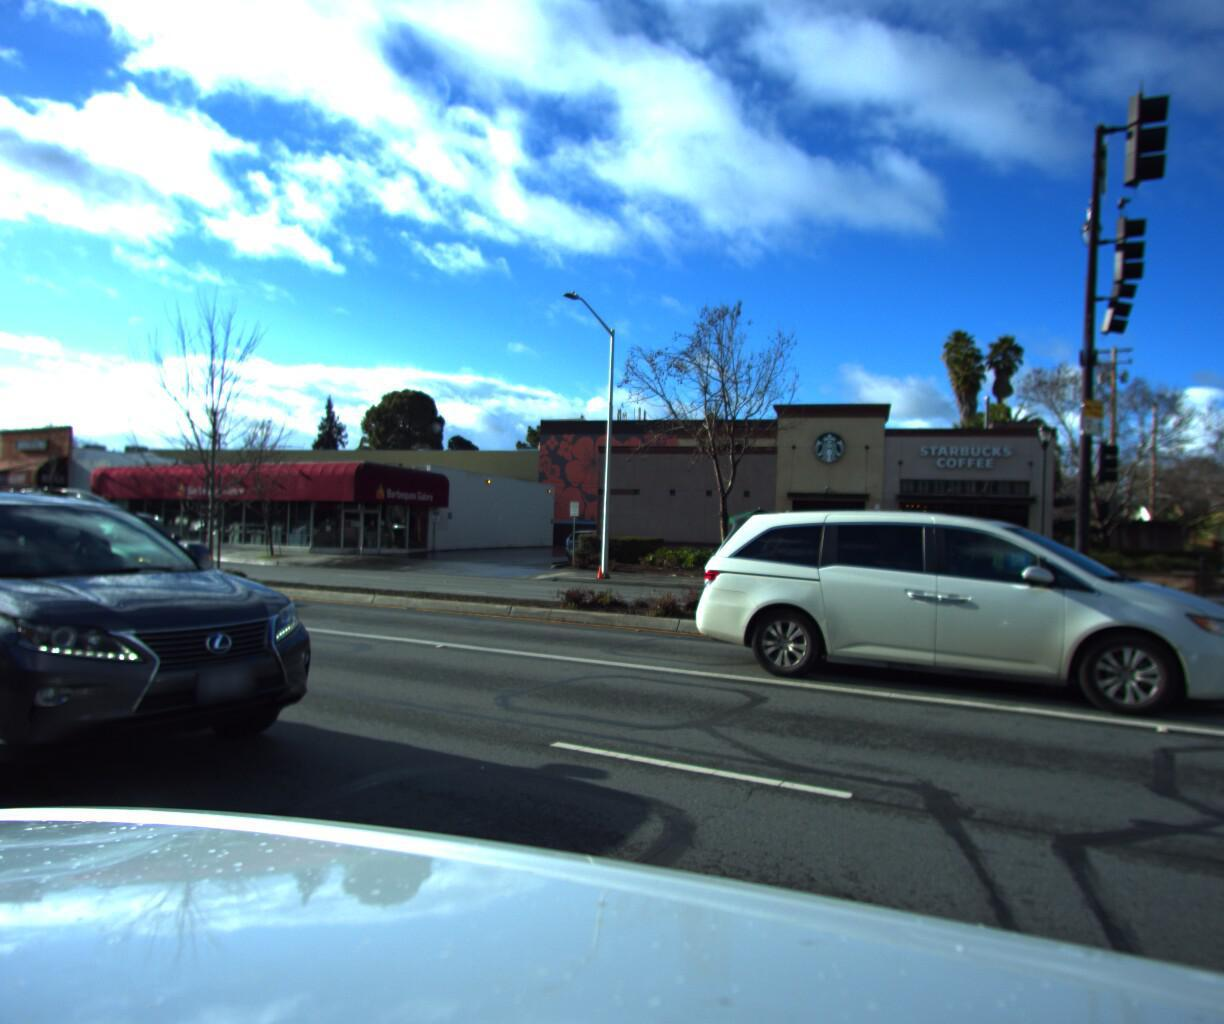car: (0, 469, 376, 872), (678, 500, 1224, 732), (0, 501, 247, 607), (559, 523, 628, 559), (1222, 541, 1224, 573)
